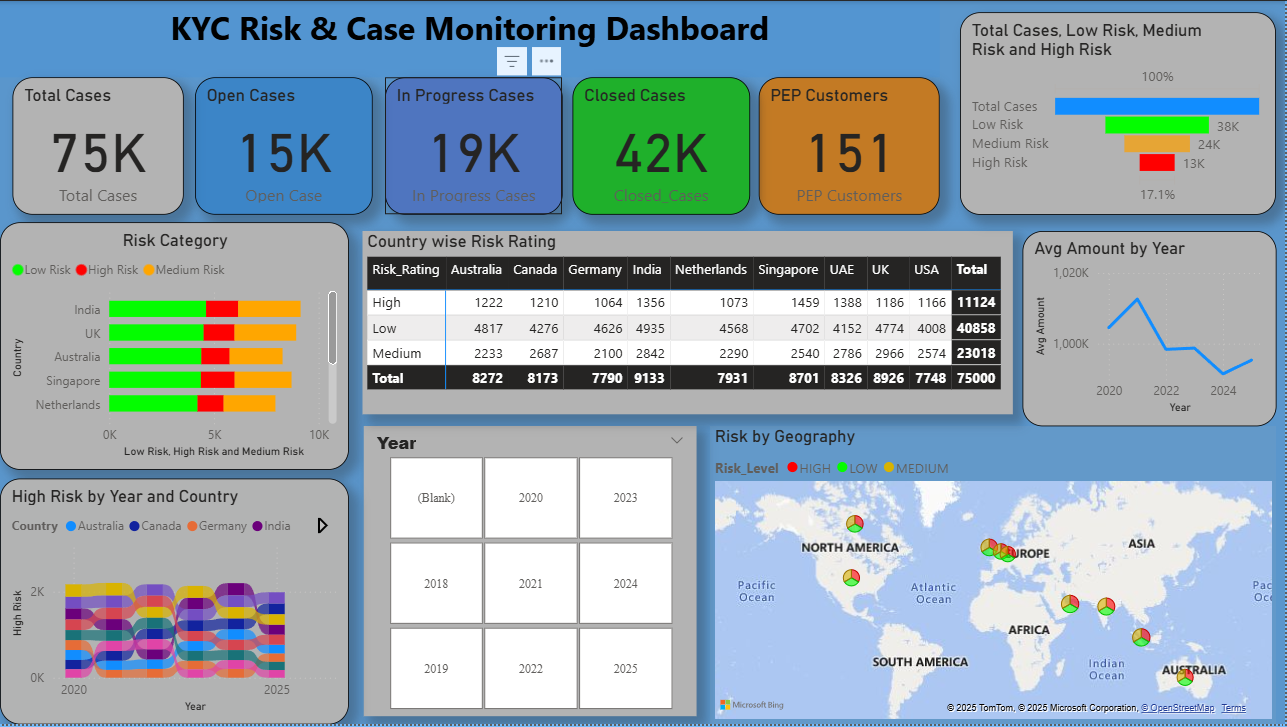

Layout of this report page (visuals, bound fields, positions):
{"tool":"powerbi","page":{"name":"Virtualization","canvas":[1280,720],"ordinal":0},"visuals":[{"type":"card","title":"Total Cases","fields":{"Values":["DimCustomer.Total Cases"]},"box":[12.4,75.9,170.4,136.8],"z":0},{"type":"card","title":"PEP Customers","fields":{"Values":["DimCustomer.PEP Customers"]},"box":[755.1,75.9,180.4,136.8],"z":1000},{"type":"card","title":"Open Cases","fields":{"Values":["DimCustomer.Open_Case"]},"box":[194.1,75.9,176.6,136.8],"z":2000},{"type":"barChart","title":"Risk Category","fields":{"Y":["DimCustomer.Low_Risk","DimCustomer.High_Risk","DimCustomer.Medium_Risk"],"Category":["DimCustomer.Country"]},"box":[0,220.2,347.1,246.3],"z":3000},{"type":"card","title":"In Progress Cases","fields":{"Values":["DimCustomer.InProgress_Cases"]},"box":[383.1,75.9,176.6,136.8],"z":4000},{"type":"card","title":"Closed Cases","fields":{"Values":["DimCustomer.Closed_Cases"]},"box":[569.7,75.9,176.6,136.8],"z":5000},{"type":"slicer","fields":{"Values":["DimDate.Year"]},"box":[362,422.9,330.9,288.6],"z":6000},{"type":"pivotTable","title":"Country wise Risk Rating ","fields":{"Columns":["DimCustomer.Country"],"Rows":["DimCustomer.Risk_Rating"],"Values":["DimCustomer.Total Cases"]},"box":[361.2,228.8,647.5,182.5],"z":7000},{"type":"map","title":"Risk by Geography","fields":{"Category":["KYC_Cases.Country"],"Size":["DimCustomer.High_Risk"],"Series":["KYC_Cases.Risk_Level"]},"box":[706.6,422.9,563.5,297.3],"z":8000},{"type":"ribbonChart","fields":{"Category":["DimDate.Year"],"Series":["KYC_Cases.Country"],"Y":["DimCustomer.High_Risk"]},"box":[0,475.2,347.1,245.1],"z":9000},{"type":"textbox","box":[0,0,935,76.2],"z":10000},{"type":"funnel","fields":{"Y":["DimCustomer.Total Cases","DimCustomer.Low_Risk","DimCustomer.Medium_Risk","DimCustomer.High_Risk"]},"box":[955.4,11.2,314.7,201.5],"z":11000},{"type":"lineChart","fields":{"Category":["DimDate.Date.Variation.Date Hierarchy.Year"],"Y":["DimCustomer.Avg Amount"]},"box":[1017,229,253,194],"z":12000}]}

Visuals, with their boxes in screenshot pixels (x1, y1, x2, y2), scaled from the page's 1280x720 canvas onto the 1287x727 screenshot:
"Total Cases" card: 12/77/184/215
"PEP Customers" card: 759/77/941/215
"Open Cases" card: 195/77/373/215
"Risk Category" barChart: 0/222/349/471
"In Progress Cases" card: 385/77/563/215
"Closed Cases" card: 573/77/750/215
slicer - DimDate.Year: 364/427/697/718
"Country wise Risk Rating " pivotTable: 363/231/1014/415
"Risk by Geography" map: 710/427/1277/726
ribbonChart - DimDate.Year x KYC_Cases.Country: 0/480/349/726
textbox: 0/0/940/77
funnel - DimCustomer.Total Cases x DimCustomer.Low_Risk: 961/11/1277/215
lineChart - DimDate.Date.Variation.Date Hierarchy.Year x DimCustomer.Avg Amount: 1023/231/1277/427
